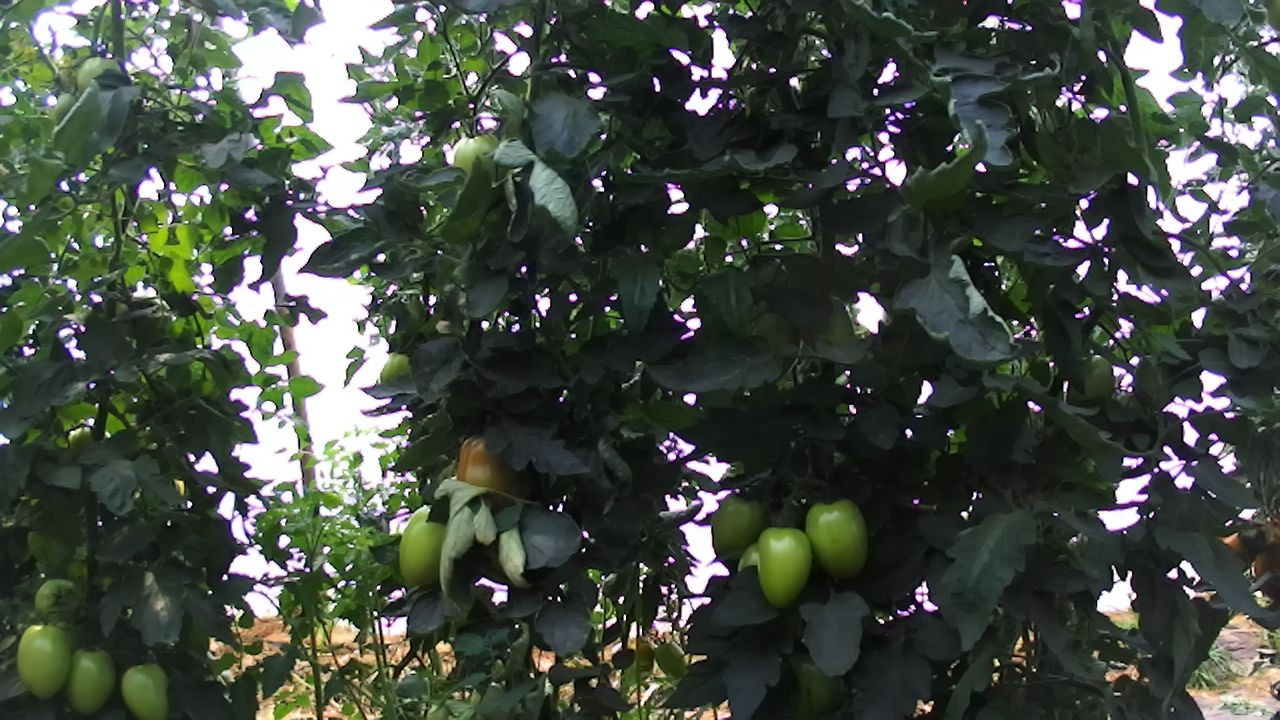tomato: (801, 493, 874, 583), (394, 497, 457, 592), (751, 522, 815, 612), (14, 617, 77, 701), (707, 488, 772, 565), (58, 643, 120, 719), (117, 658, 171, 720)
